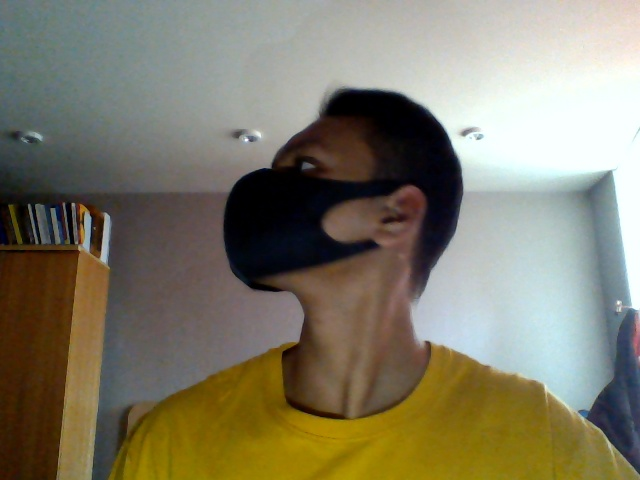mask: (223, 164, 351, 291)
